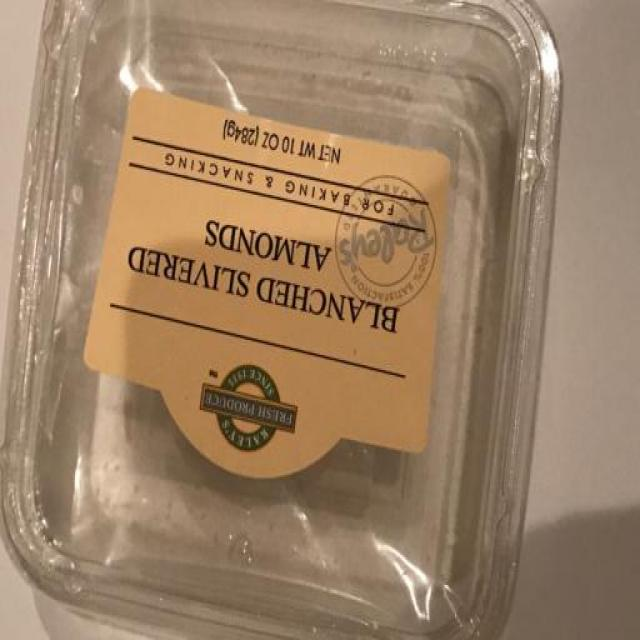Waste: (0, 2, 564, 638)
